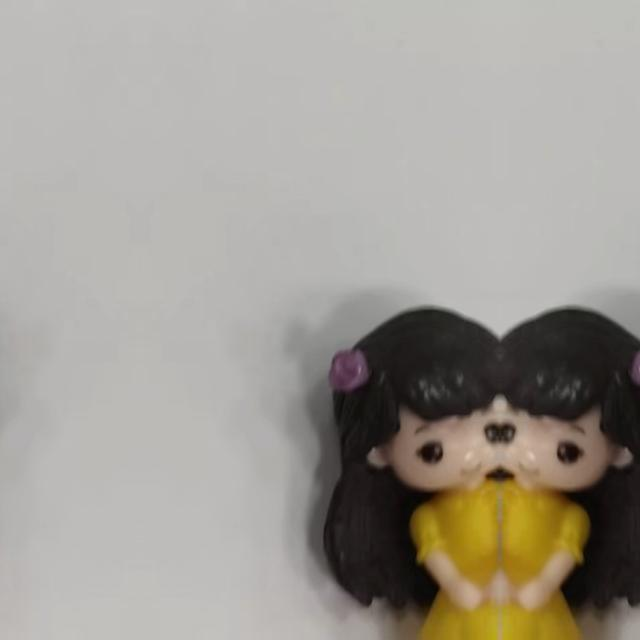woman head: (292, 304, 500, 518), (500, 303, 640, 518)
